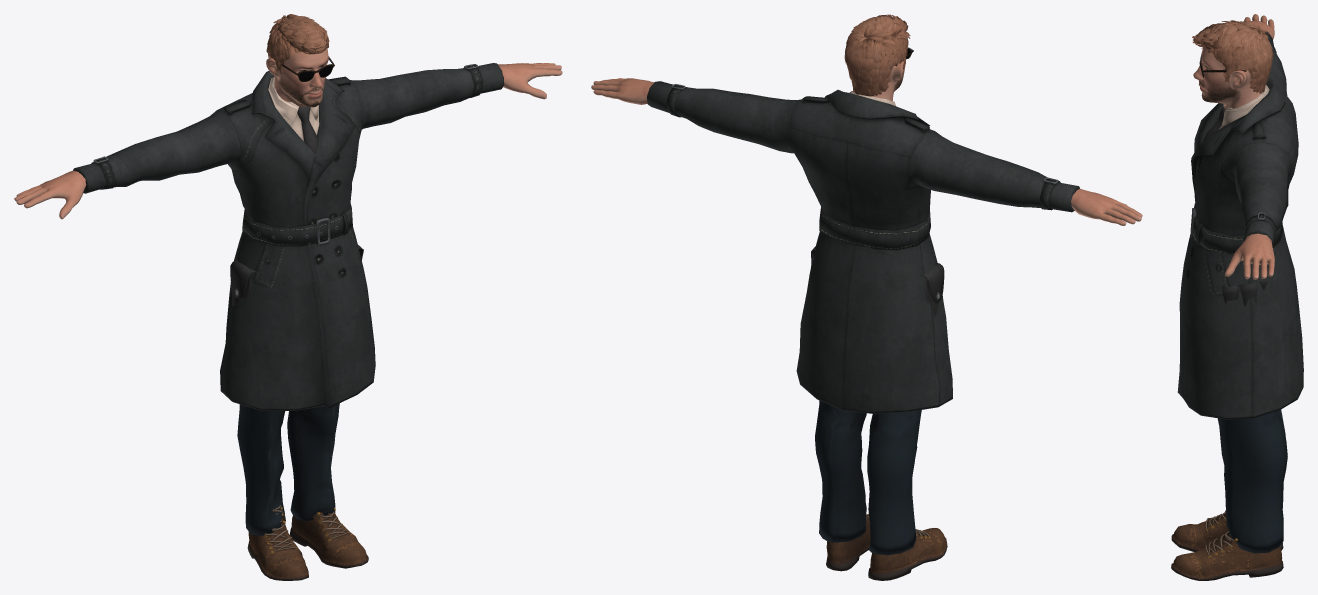
The model's file is Soldier.obj.
3 views of the same model, side by side, from view 1: azimuth 30°, elevation 25°; view 2: azimuth 150°, elevation 25°; view 3: azimuth 270°, elevation 25° (orthographic).
Visible parts, largest first — view 1: Tops, Bottoms, Body, Shoes, Hair; view 2: Tops, Bottoms, Hair, Shoes, Body; view 3: Tops, Bottoms, Shoes, Body, Hair.
Part boxes in pixels (<box>): Tops: <box>73,63,504,410</box>; Bottoms: <box>230,245,363,535</box>; Body: <box>14,22,562,219</box>; Shoes: <box>247,505,368,580</box>; Hair: <box>266,14,329,78</box>; Tops: <box>647,81,1079,413</box>; Bottoms: <box>811,246,944,555</box>; Hair: <box>845,14,910,96</box>; Shoes: <box>826,514,947,580</box>; Body: <box>591,34,1142,225</box>; Tops: <box>1177,31,1303,419</box>; Bottoms: <box>1217,280,1287,553</box>; Shoes: <box>1171,510,1283,580</box>; Body: <box>1193,14,1274,279</box>; Hair: <box>1192,20,1273,93</box>.
Size of the model in its own units: 194 by 183 by 41.
Materials: 1 (1 with a texture image).
